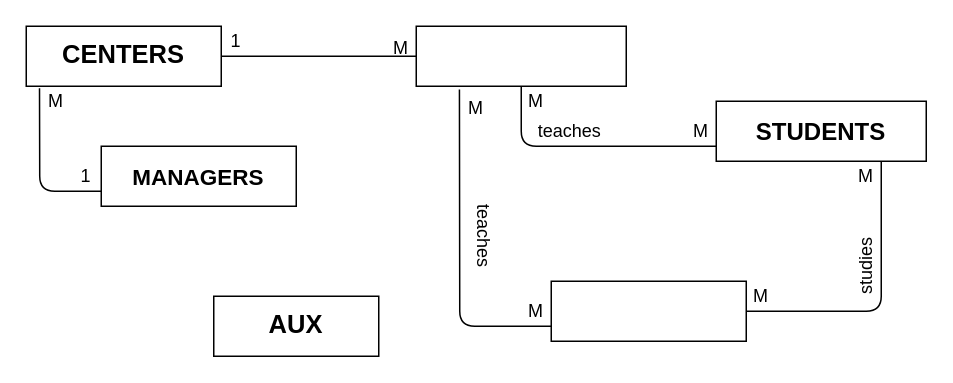
Image size: 953x383. Some labels were removed from this diagram. Here are the shapes that lost their labels. From the top down, the centre of each, then its label:
At (520,55): "TEACHERS".
At (648,310): "SUBJECTS".
